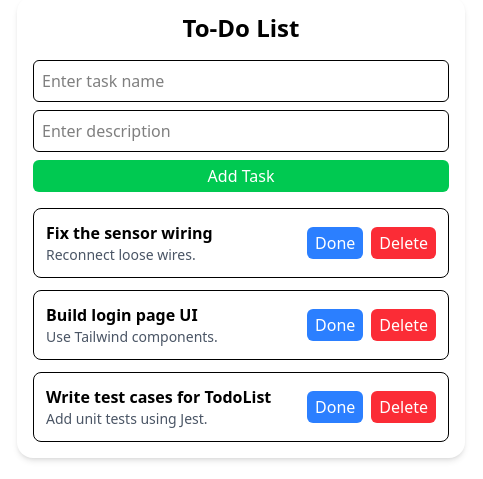
Test: TodoList Component › toggles todo status
Click the button "Done" next to "Fix the sensor wiring" at (335, 243), box x1=307 y1=227 x2=363 y2=259
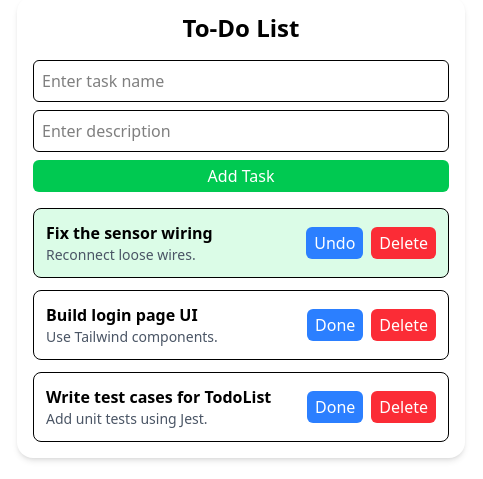
Check: the button "Done" reads "Undo", box x1=306 y1=227 x2=363 y2=259
